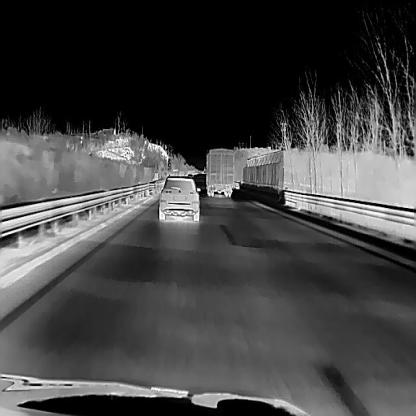car: (158, 175, 200, 221)
truck: (202, 146, 234, 196)
